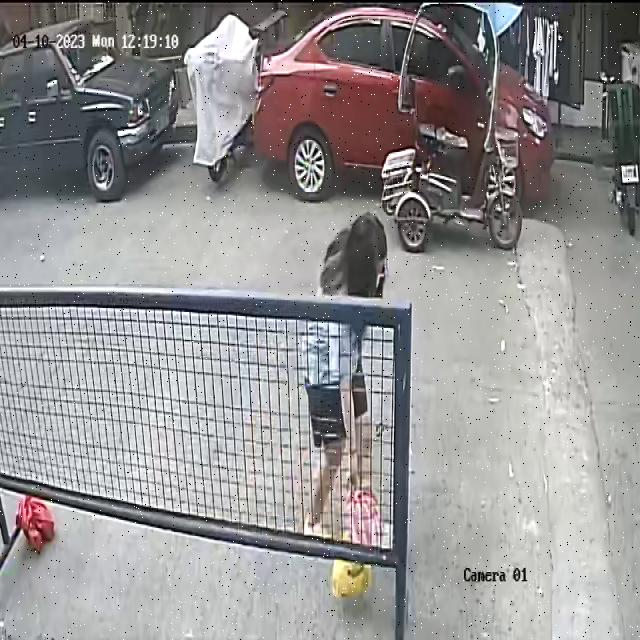garbage_dumping: (325, 477, 385, 604)
